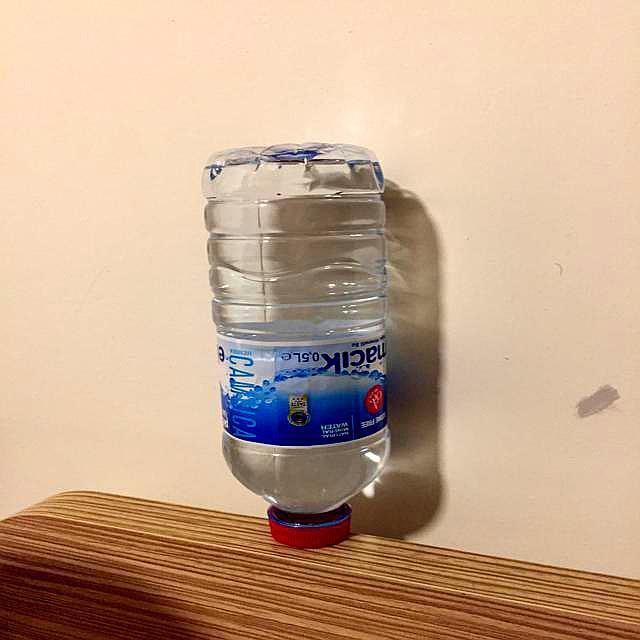Non-biodegradable: (199, 141, 409, 549)
